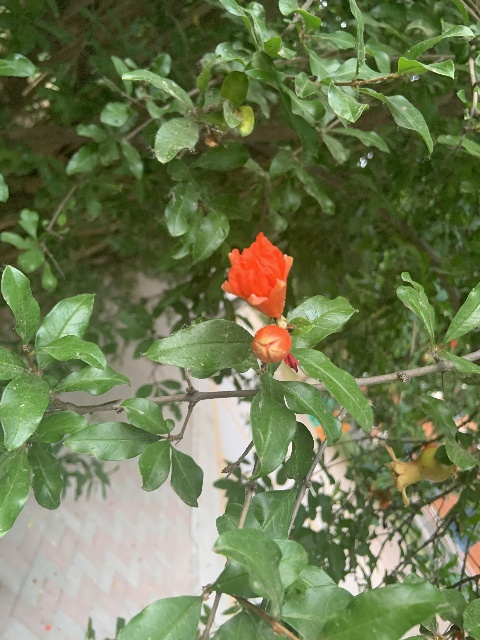bud: (251, 324, 294, 365)
flower: (221, 230, 293, 319)
mid-growth: (383, 442, 458, 507)
